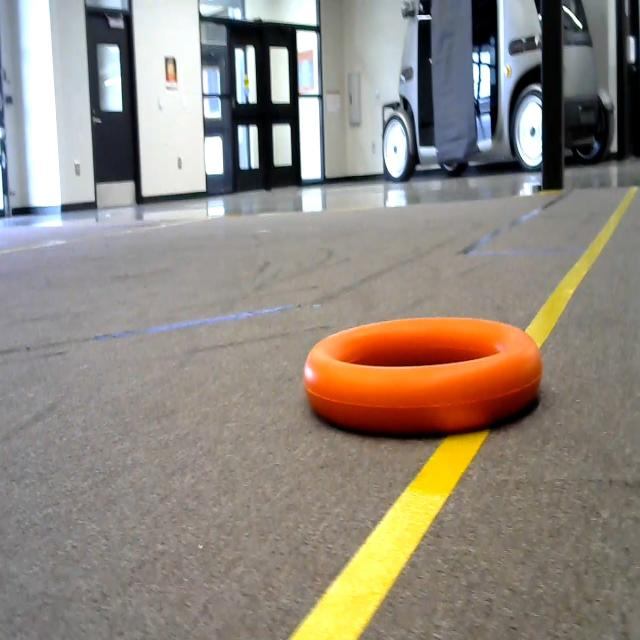note: (298, 305, 561, 452)
